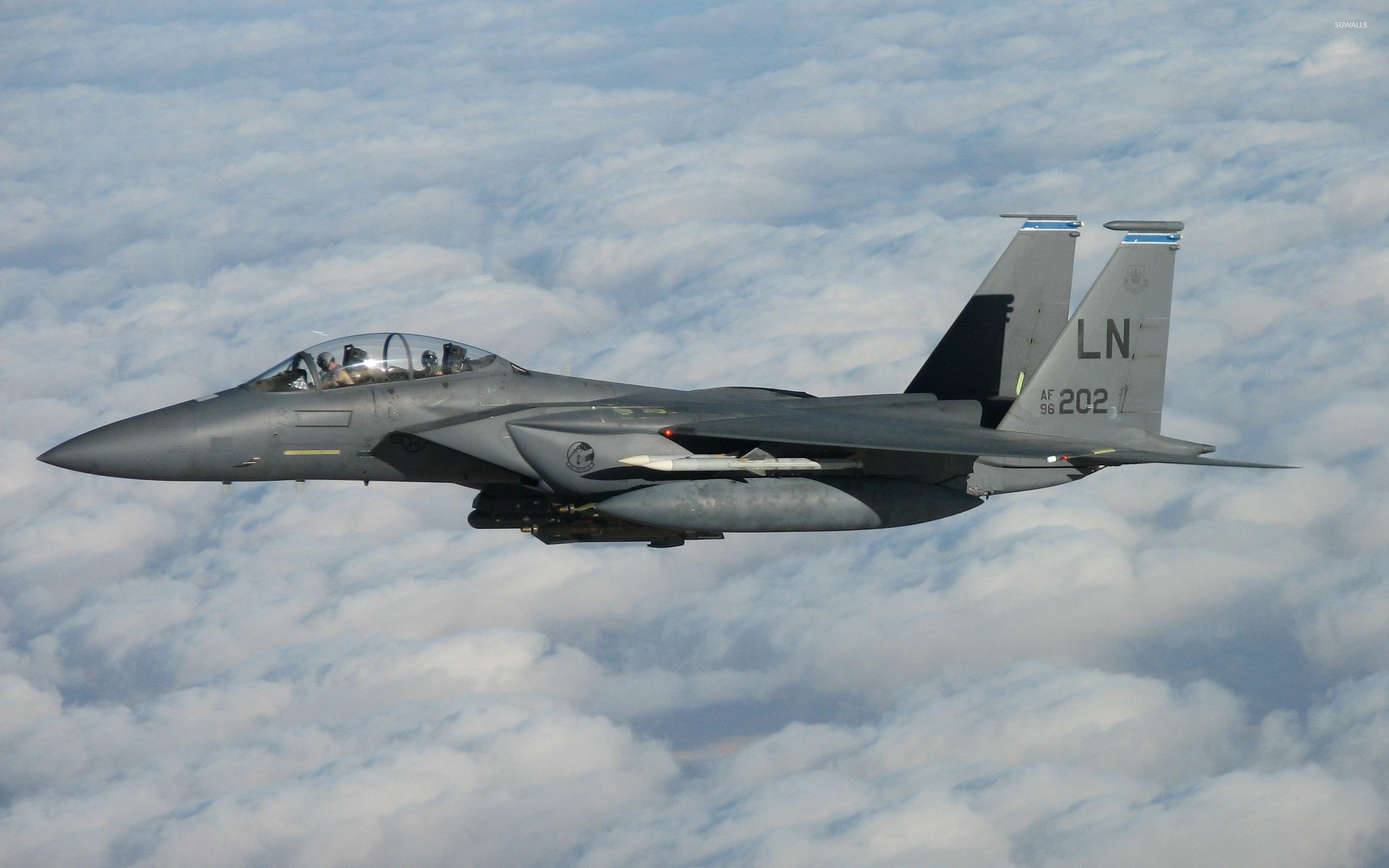aircraft: (54, 212, 1269, 546)
